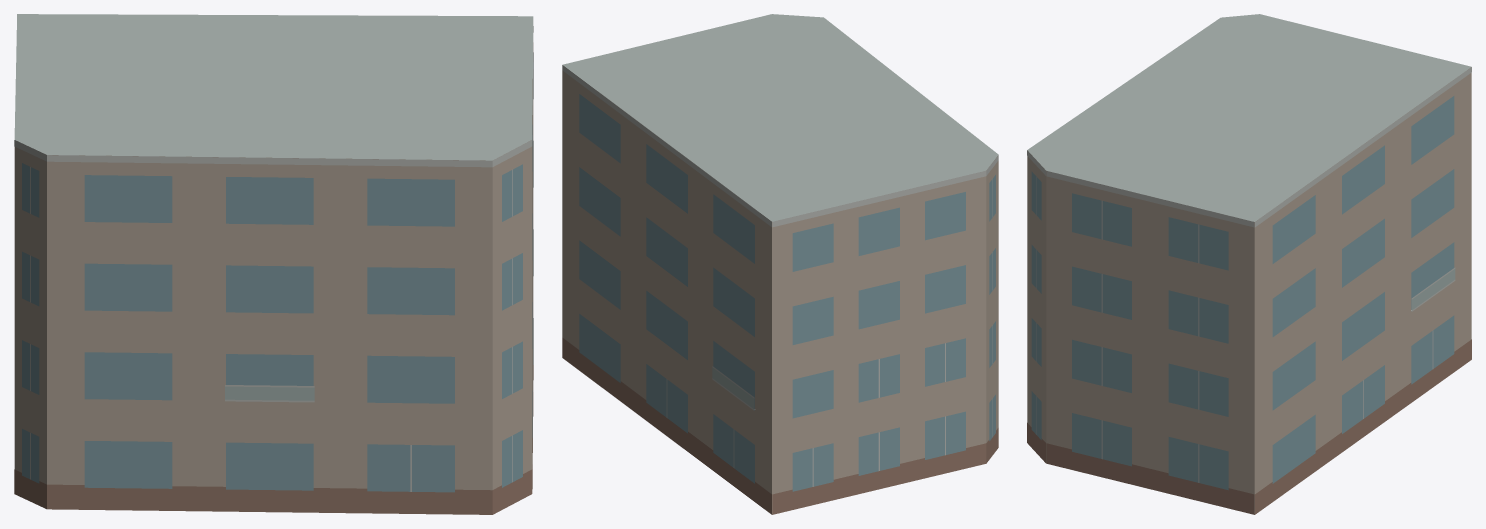
File: survey-upis-32705768.glb
The picture shows the model from 3 angles, left to right: view 1: azimuth 30°, elevation 25°; view 2: azimuth 150°, elevation 25°; view 3: azimuth 270°, elevation 25°; orthographic projection. The views are drawn at different scales.
Visible parts, largest first — view 1: survey-upis-32705768.tmp; view 2: survey-upis-32705768.tmp; view 3: survey-upis-32705768.tmp.
Part boxes in pixels (x1=…): survey-upis-32705768.tmp: x1=14, y1=14, x2=533, y2=514; survey-upis-32705768.tmp: x1=562, y1=14, x2=998, y2=514; survey-upis-32705768.tmp: x1=1027, y1=14, x2=1471, y2=514.
Bounding box in the file's own units: 19.51 × 12.8 × 17.62.
